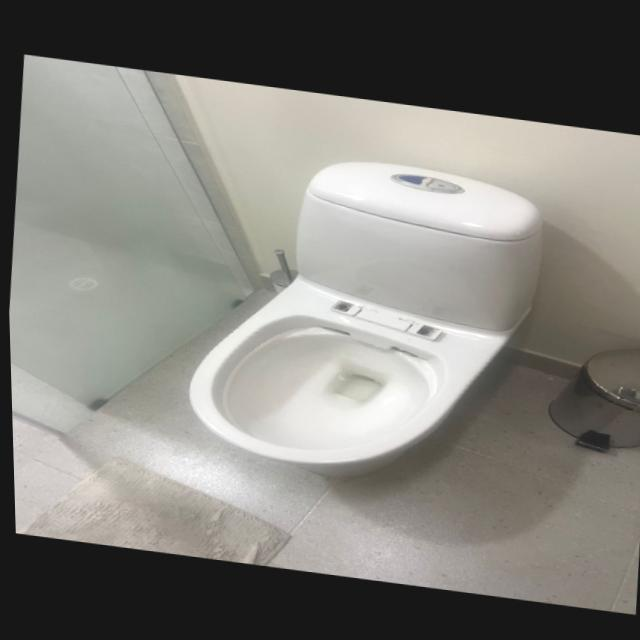toilet: (174, 134, 554, 499)
